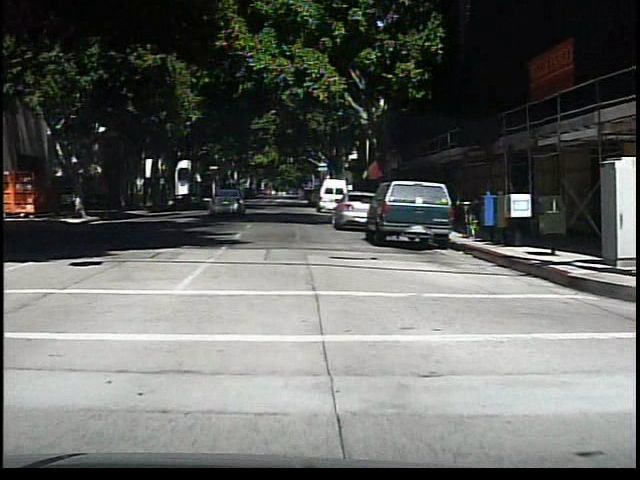person: (64, 182, 81, 219)
